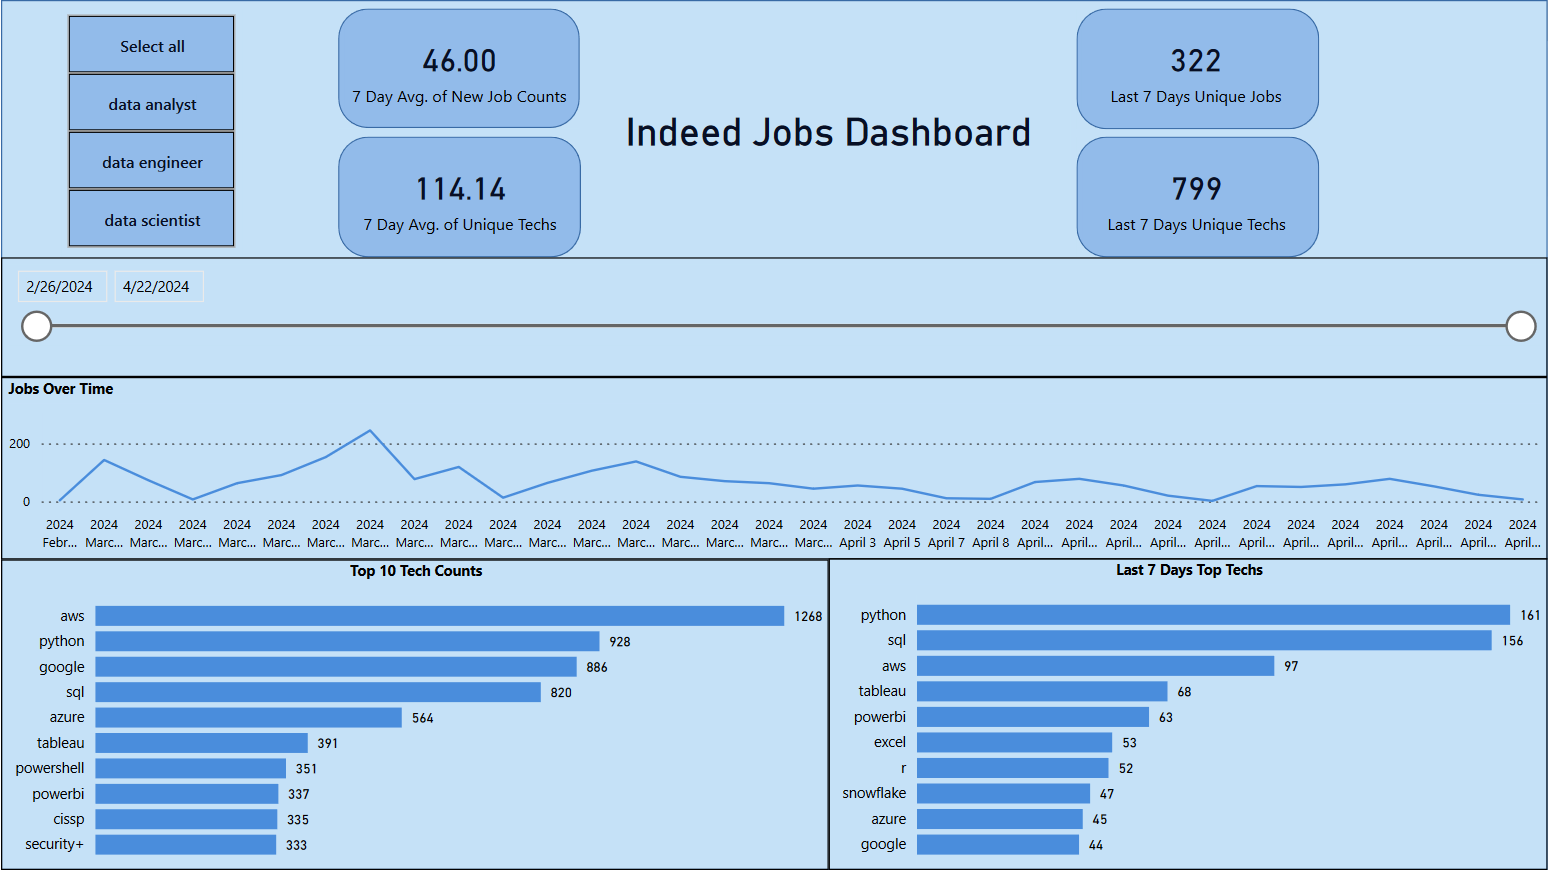

The page's visual inventory and layout, read from the dashboard file:
{"tool":"powerbi","page":{"name":"Basictrends","canvas":[1280,720],"ordinal":0},"visuals":[{"type":"shape","title":"Background Color","box":[0,0,1280,719.8],"z":0},{"type":"shape","title":"KPIBackgrounds","box":[890.4,7.1,200.5,99.8],"z":1000},{"type":"shape","title":"KPIBackgrounds","box":[890.4,113.1,200.5,99.8],"z":2000},{"type":"shape","title":"KPIBackgrounds","box":[279.1,113.1,200.5,99.8],"z":3000},{"type":"shape","title":"KPIBackgrounds","box":[278.9,6.8,200.3,99.7],"z":4000},{"type":"card","title":"7day unique job kpi","fields":{"Values":["jobs_view.UniqueJobKeyCountLastWeek"]},"box":[889,6.8,200.4,100.2],"z":5000},{"type":"card","title":"7 day unique tech kpi","fields":{"Values":["jobs_view.TechCountsLastWeek"]},"box":[890,112.8,199.4,100.2],"z":6000},{"type":"advancedSlicerVisual","title":"keyword slicer","fields":{"Values":["jobs_view.kw"]},"box":[50.4,7.1,149.3,205.8],"z":7000},{"type":"lineChart","title":"Jobs Over Time","fields":{"Category":["jobs_view.job_date.Variation.Date Hierarchy.Year","jobs_view.job_date.Variation.Date Hierarchy.Month","jobs_view.job_date.Variation.Date Hierarchy.Day"],"Y":["Count(jobs_view.job_key)"]},"box":[0,312.2,1280,150.8],"z":8000},{"type":"card","title":"7day avg job count kpi","fields":{"Values":["jobs_view.AverageJobCountsLastWeek"]},"box":[279.1,6.8,200.4,100.2],"z":9000},{"type":"card","title":"7 day avg unique tech kpi","fields":{"Values":["jobs_view.AverageTechCountsLastWeek"]},"box":[280.1,112.8,199.4,100.2],"z":10000},{"type":"card","title":"Header","fields":{"Values":["jobs_view.HeaderText"]},"box":[479.5,34,410.5,144.9],"z":11000},{"type":"clusteredBarChart","title":"Top 10 Tech Counts","fields":{"Category":["jobs_view.tech"],"Y":["jobs_view.TechTotals"]},"box":[0,463,684.7,256.8],"z":12000},{"type":"slicer","title":"date slicer","fields":{"Values":["jobs_view.job_date"]},"box":[0,213,1280,99.2],"z":13000},{"type":"clusteredBarChart","title":"Last 7 Days Top Techs","fields":{"Category":["jobs_view.tech"],"Y":["jobs_view.TechTotals"]},"box":[684.5,462.3,595.8,257.7],"z":14000}]}

Visuals, with their boxes in screenshot pixels (x1, y1, x2, y2), scaled from the page's 1280x720 canvas onto the 1550x871 screenshot:
"Background Color" shape: <bbox>0, 0, 1549, 870</bbox>
"KPIBackgrounds" shape: <bbox>1078, 9, 1321, 129</bbox>
"KPIBackgrounds" shape: <bbox>1078, 137, 1321, 258</bbox>
"KPIBackgrounds" shape: <bbox>338, 137, 581, 258</bbox>
"KPIBackgrounds" shape: <bbox>338, 8, 580, 129</bbox>
"7day unique job kpi" card: <bbox>1077, 8, 1319, 129</bbox>
"7 day unique tech kpi" card: <bbox>1078, 136, 1319, 258</bbox>
"keyword slicer" advancedSlicerVisual: <bbox>61, 9, 242, 258</bbox>
"Jobs Over Time" lineChart: <bbox>0, 378, 1549, 560</bbox>
"7day avg job count kpi" card: <bbox>338, 8, 581, 129</bbox>
"7 day avg unique tech kpi" card: <bbox>339, 136, 581, 258</bbox>
"Header" card: <bbox>581, 41, 1078, 216</bbox>
"Top 10 Tech Counts" clusteredBarChart: <bbox>0, 560, 829, 870</bbox>
"date slicer" slicer: <bbox>0, 258, 1549, 378</bbox>
"Last 7 Days Top Techs" clusteredBarChart: <bbox>829, 559, 1549, 870</bbox>
